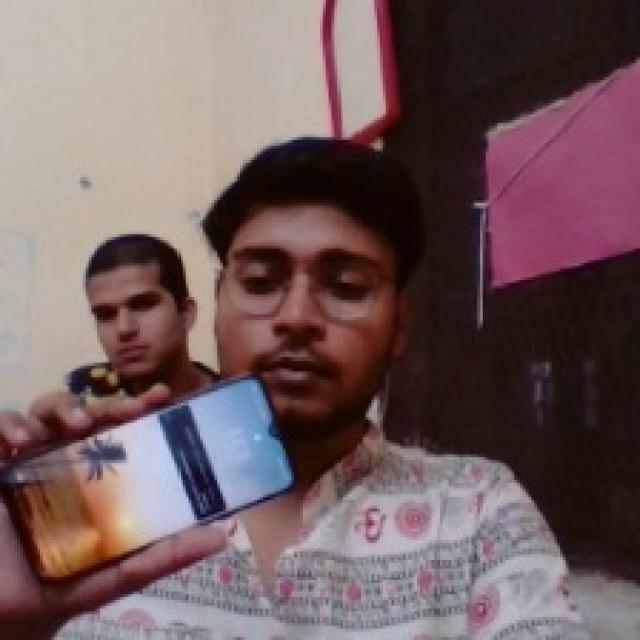Phone: (0, 371, 298, 591)
